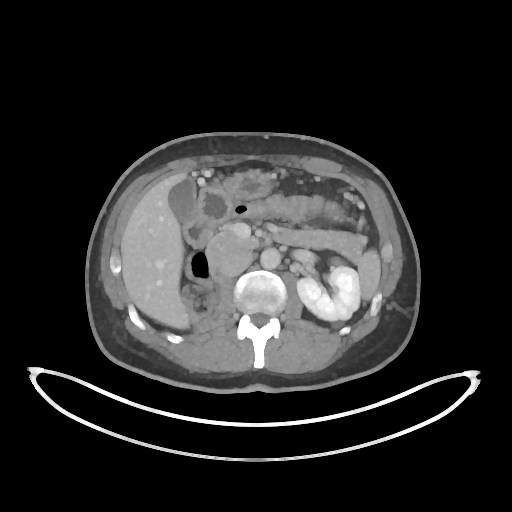Lesion: (329, 318, 343, 328)
